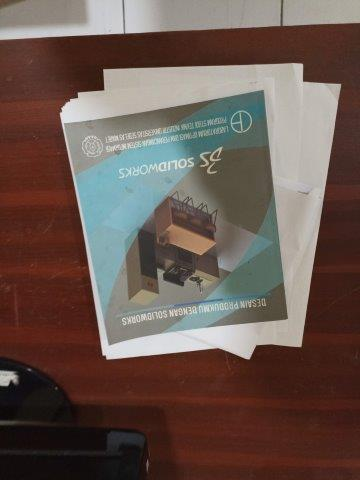kertas: (59, 63, 343, 360)
